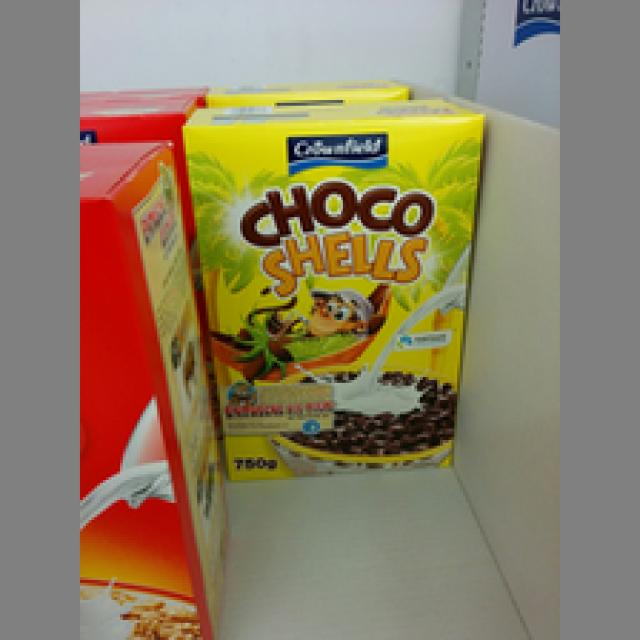groceries: (180, 100, 486, 483)
